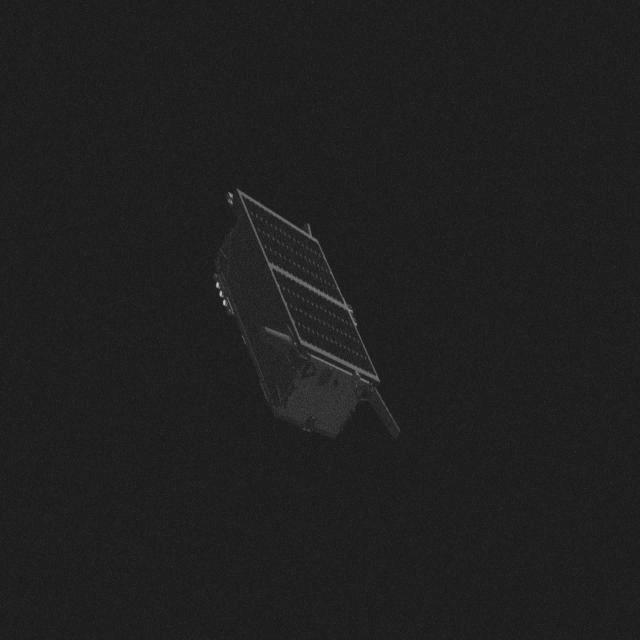satellite: (204, 180, 402, 464)
